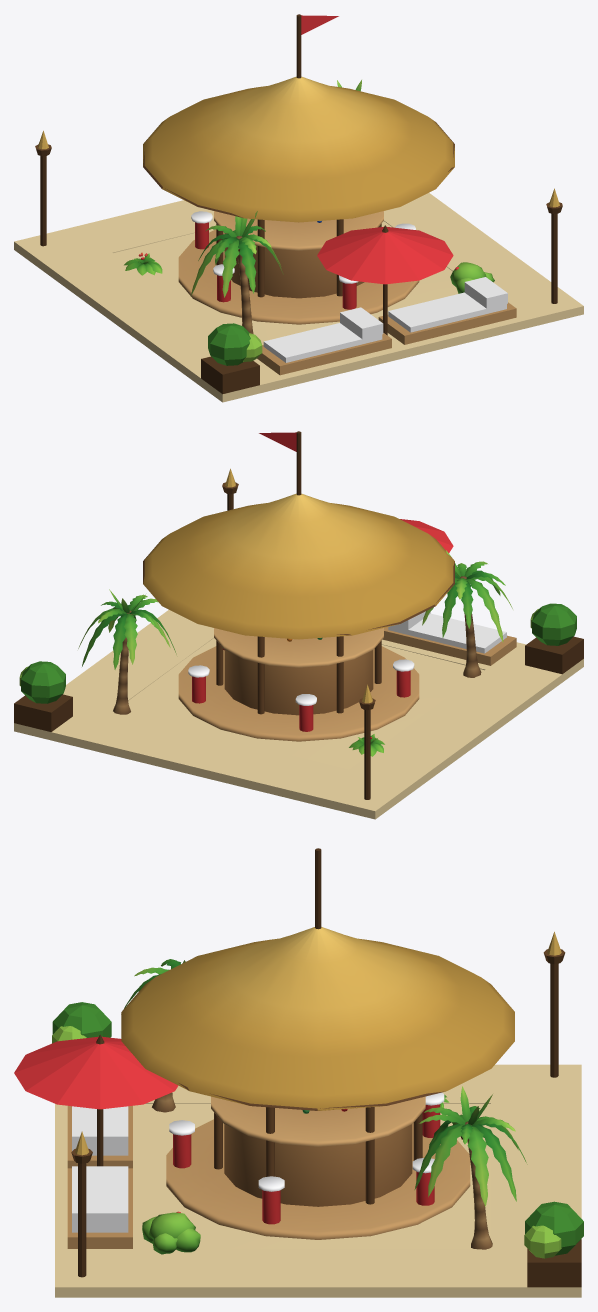
File: BeachBar_L2.obj
3 views of the same model, one above another, from view 1: azimuth 30°, elevation 25°; view 2: azimuth 150°, elevation 25°; view 3: azimuth 270°, elevation 25° (orthographic). The views are drawn at different scales.
Parts seen in each view (by area): view 1: BeachBar_L2; view 2: BeachBar_L2; view 3: BeachBar_L2.
Part boxes in pixels (bbox=[...]): BeachBar_L2: bbox=[14, 14, 583, 402]; BeachBar_L2: bbox=[14, 431, 583, 819]; BeachBar_L2: bbox=[14, 848, 583, 1297].
Size of the model in its own units: 5.95 by 4.09 by 6.28.
1 material, 1 textured.
